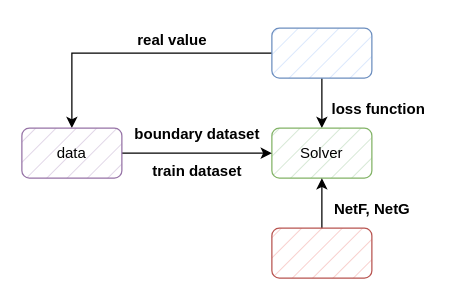
Image size: 463x300. Some labels were removed from this diagram. Each missing label, with the centre of its shape:
"equation" belongs at [321,52].
"model" belongs at [321,252].
